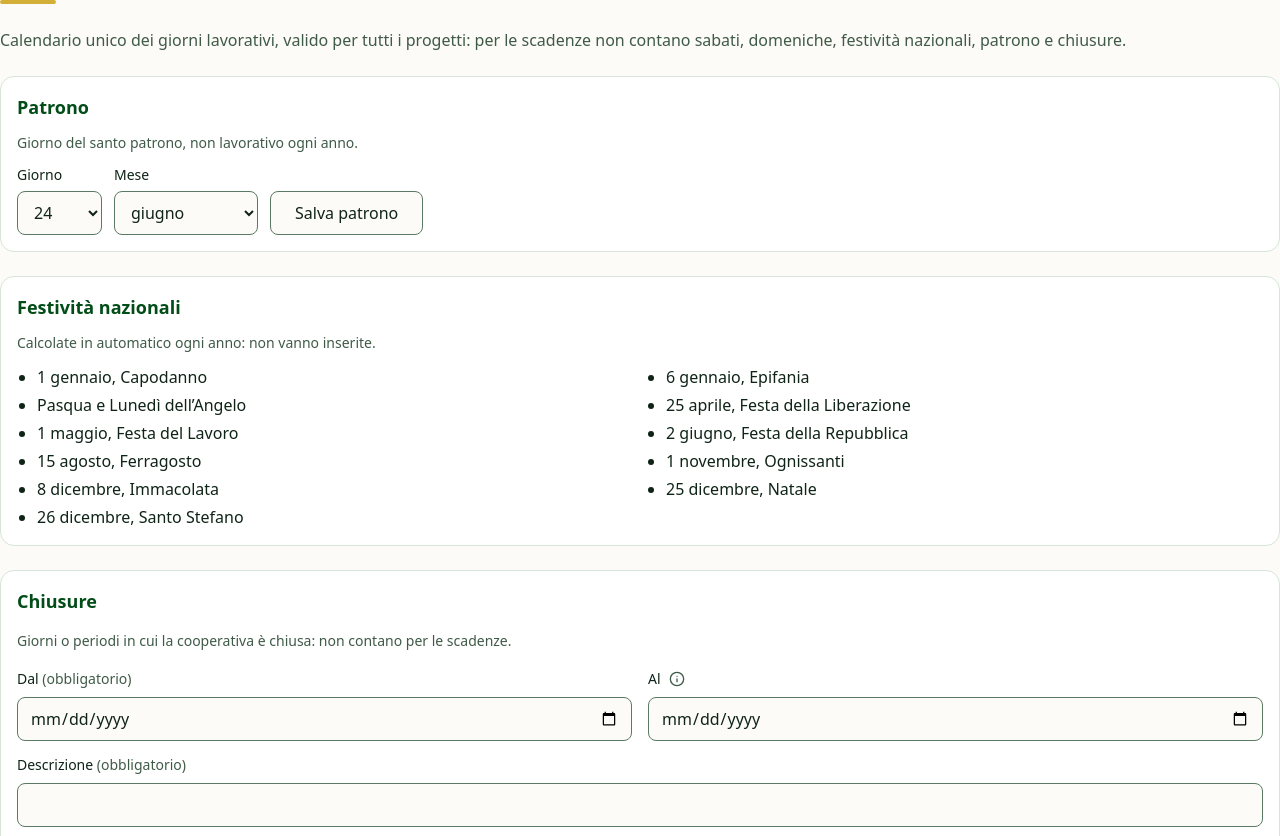
Test: <CalendarPage> › aggiunge una chiusura di un giorno e ne rimuove una
Type "2026-11-02" into the date field labelled "Dal (obbligatorio)".
click(324, 719); type("2026-11-02")  # box left=17, top=697, right=632, bottom=741
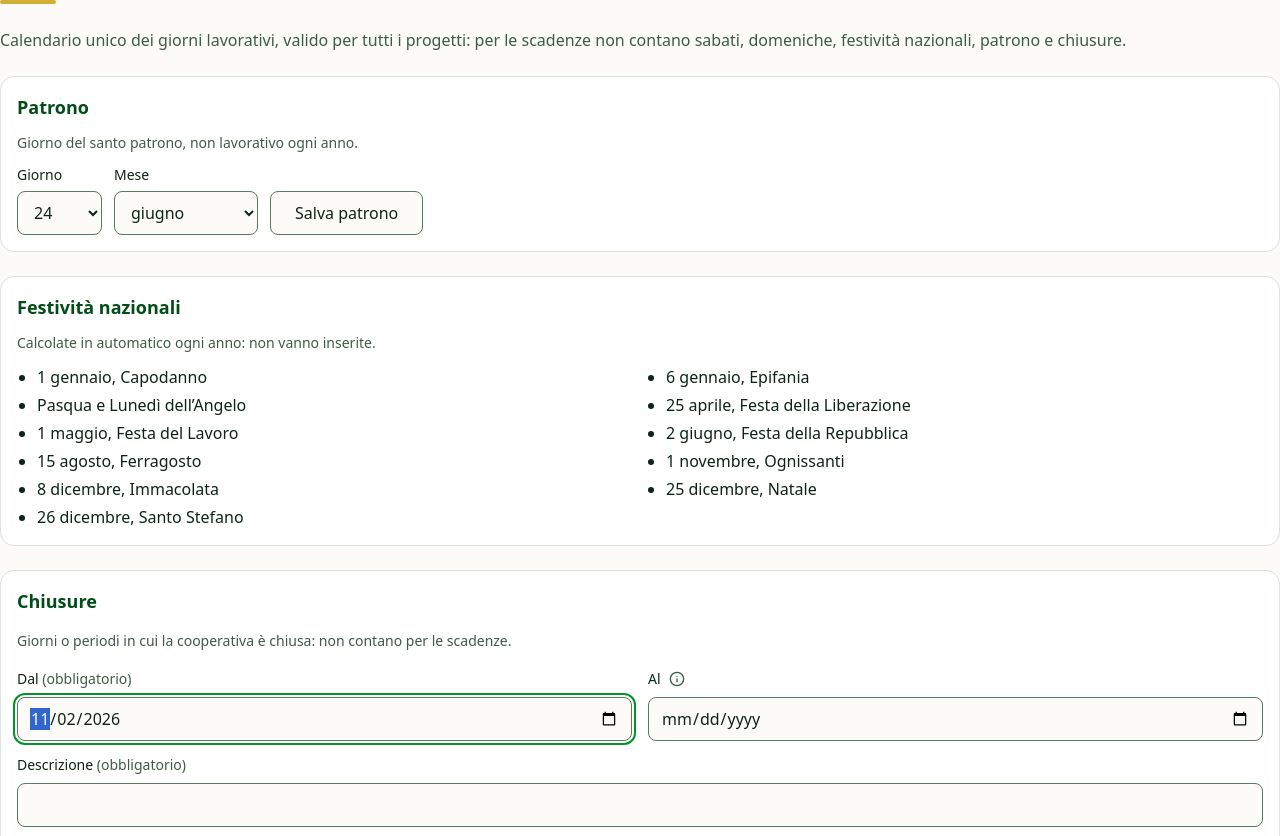
Type "Ponte" into the field labelled "Descrizione (obbligatorio)".
click(640, 805); type("Ponte")  # box left=17, top=783, right=1263, bottom=827
(page scrolled)
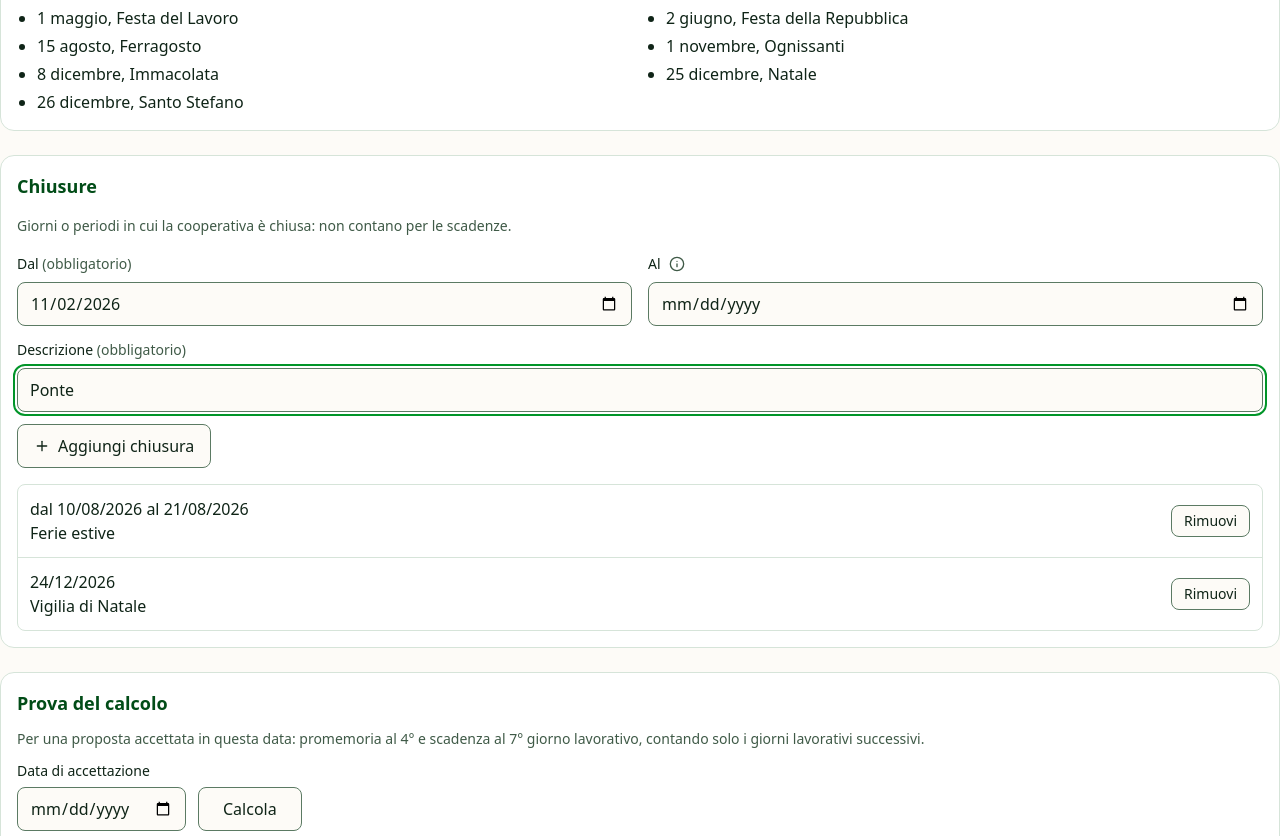
Click the button "Aggiungi chiusura".
click(114, 446)  # box left=17, top=424, right=211, bottom=468
(page scrolled)
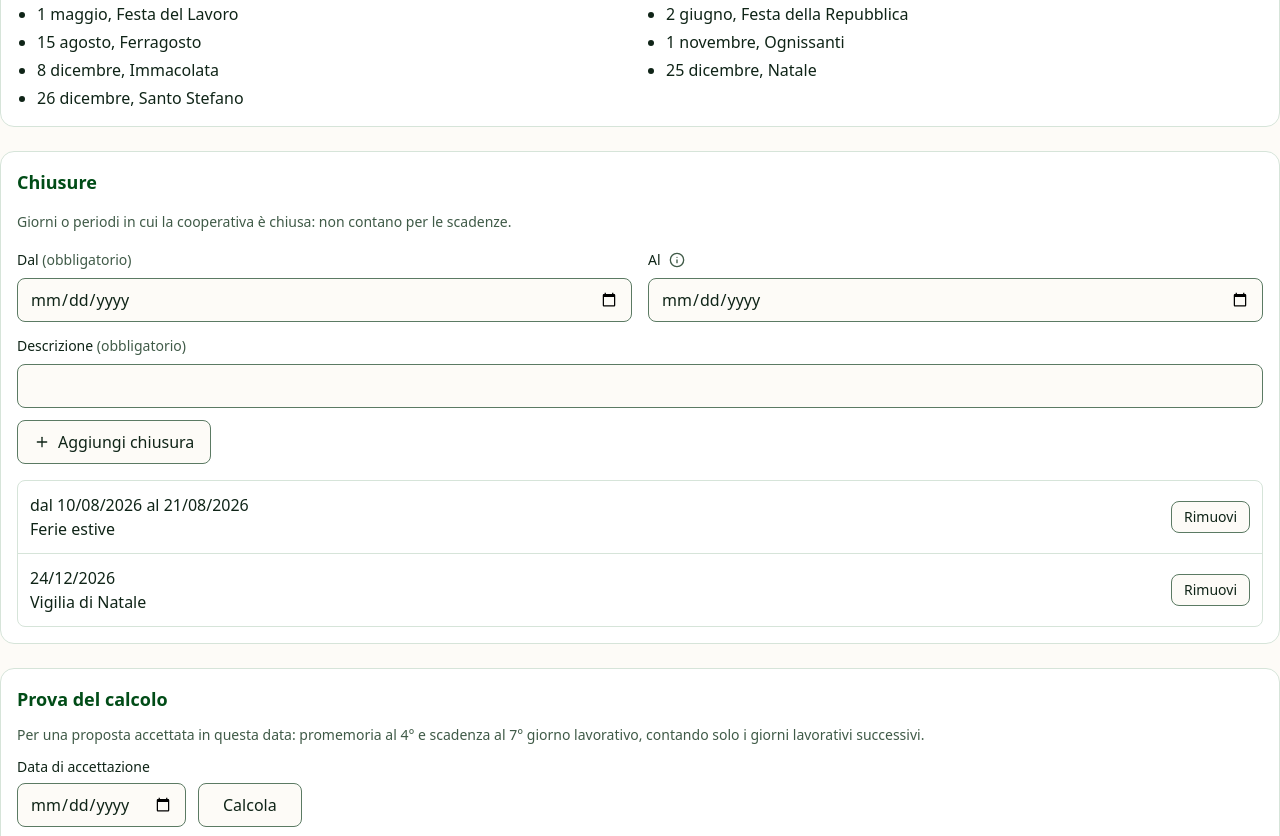
Click the button named "Rimuovi Ferie estive".
click(1210, 517)  # box left=1171, top=501, right=1250, bottom=533
(page scrolled)
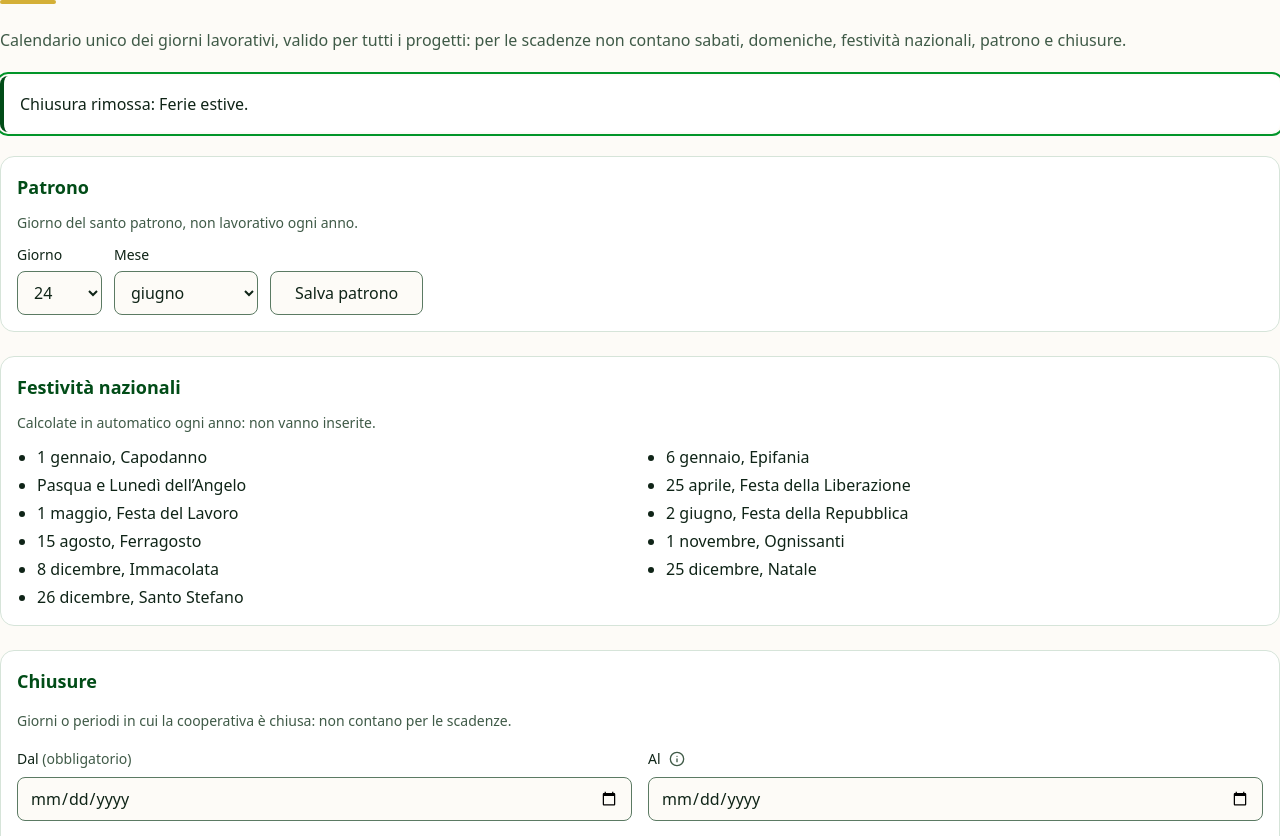
Check: the text "Chiusura rimossa: Ferie estive." is shown, box left=0, top=76, right=1279, bottom=132
